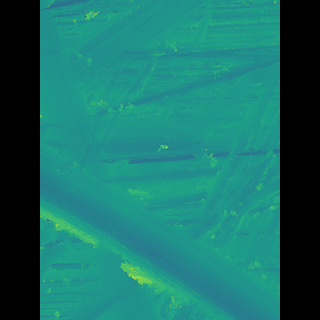Loch: (69, 144, 250, 320), (89, 0, 205, 98)
